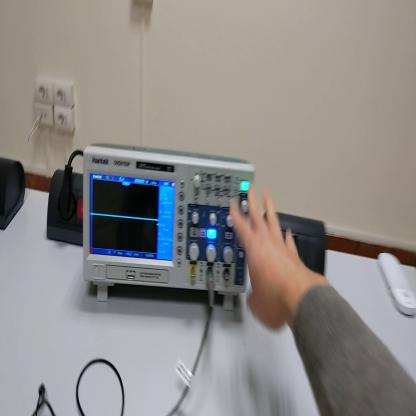hand: (228, 183, 307, 331)
oscilloscope: (87, 133, 264, 311)
socket: (46, 168, 85, 249), (2, 149, 28, 231)
